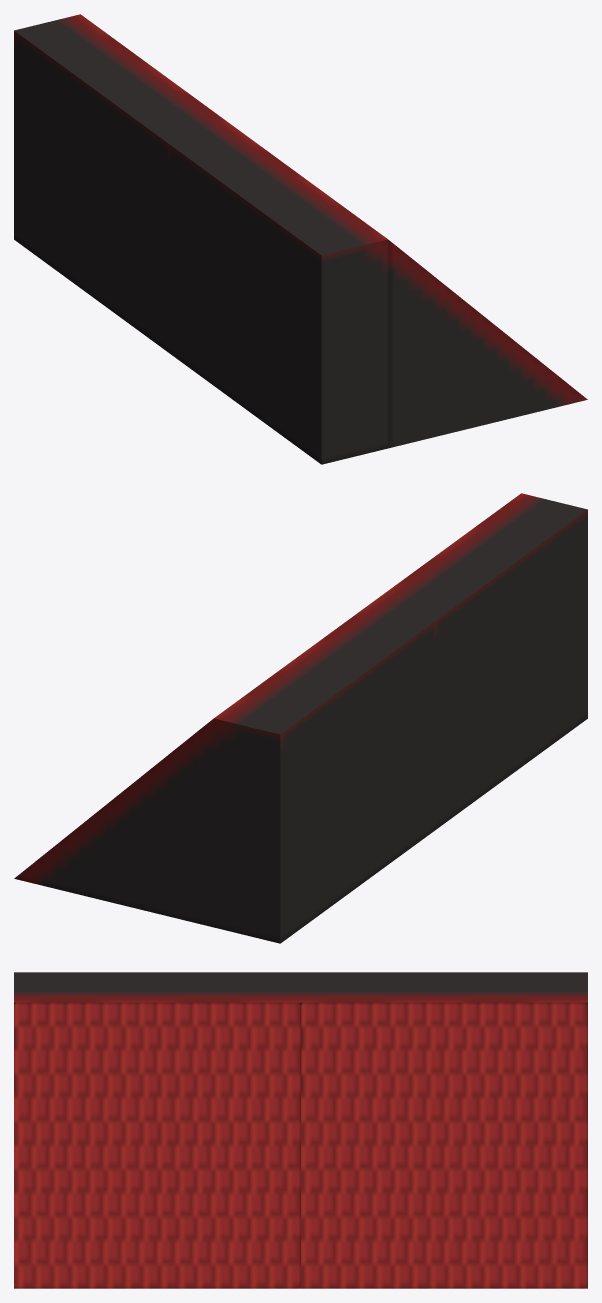
The model's file is Roof_x2.fbx.
3 renders of one model, top to bottom at view 1: azimuth 30°, elevation 25°; view 2: azimuth 150°, elevation 25°; view 3: azimuth 270°, elevation 25°, orthographic. The views are drawn at different scales.
Parts seen in each view (by area): view 1: Roof_x2; view 2: Roof_x2; view 3: Roof_x2.
Part boxes in pixels (bbox=[...]): Roof_x2: bbox=[14, 14, 587, 464]; Roof_x2: bbox=[14, 493, 587, 943]; Roof_x2: bbox=[14, 972, 587, 1288].
Bounding box in the file's own units: 400 × 300 × 800.
Materials: 1 (1 with a texture image).
